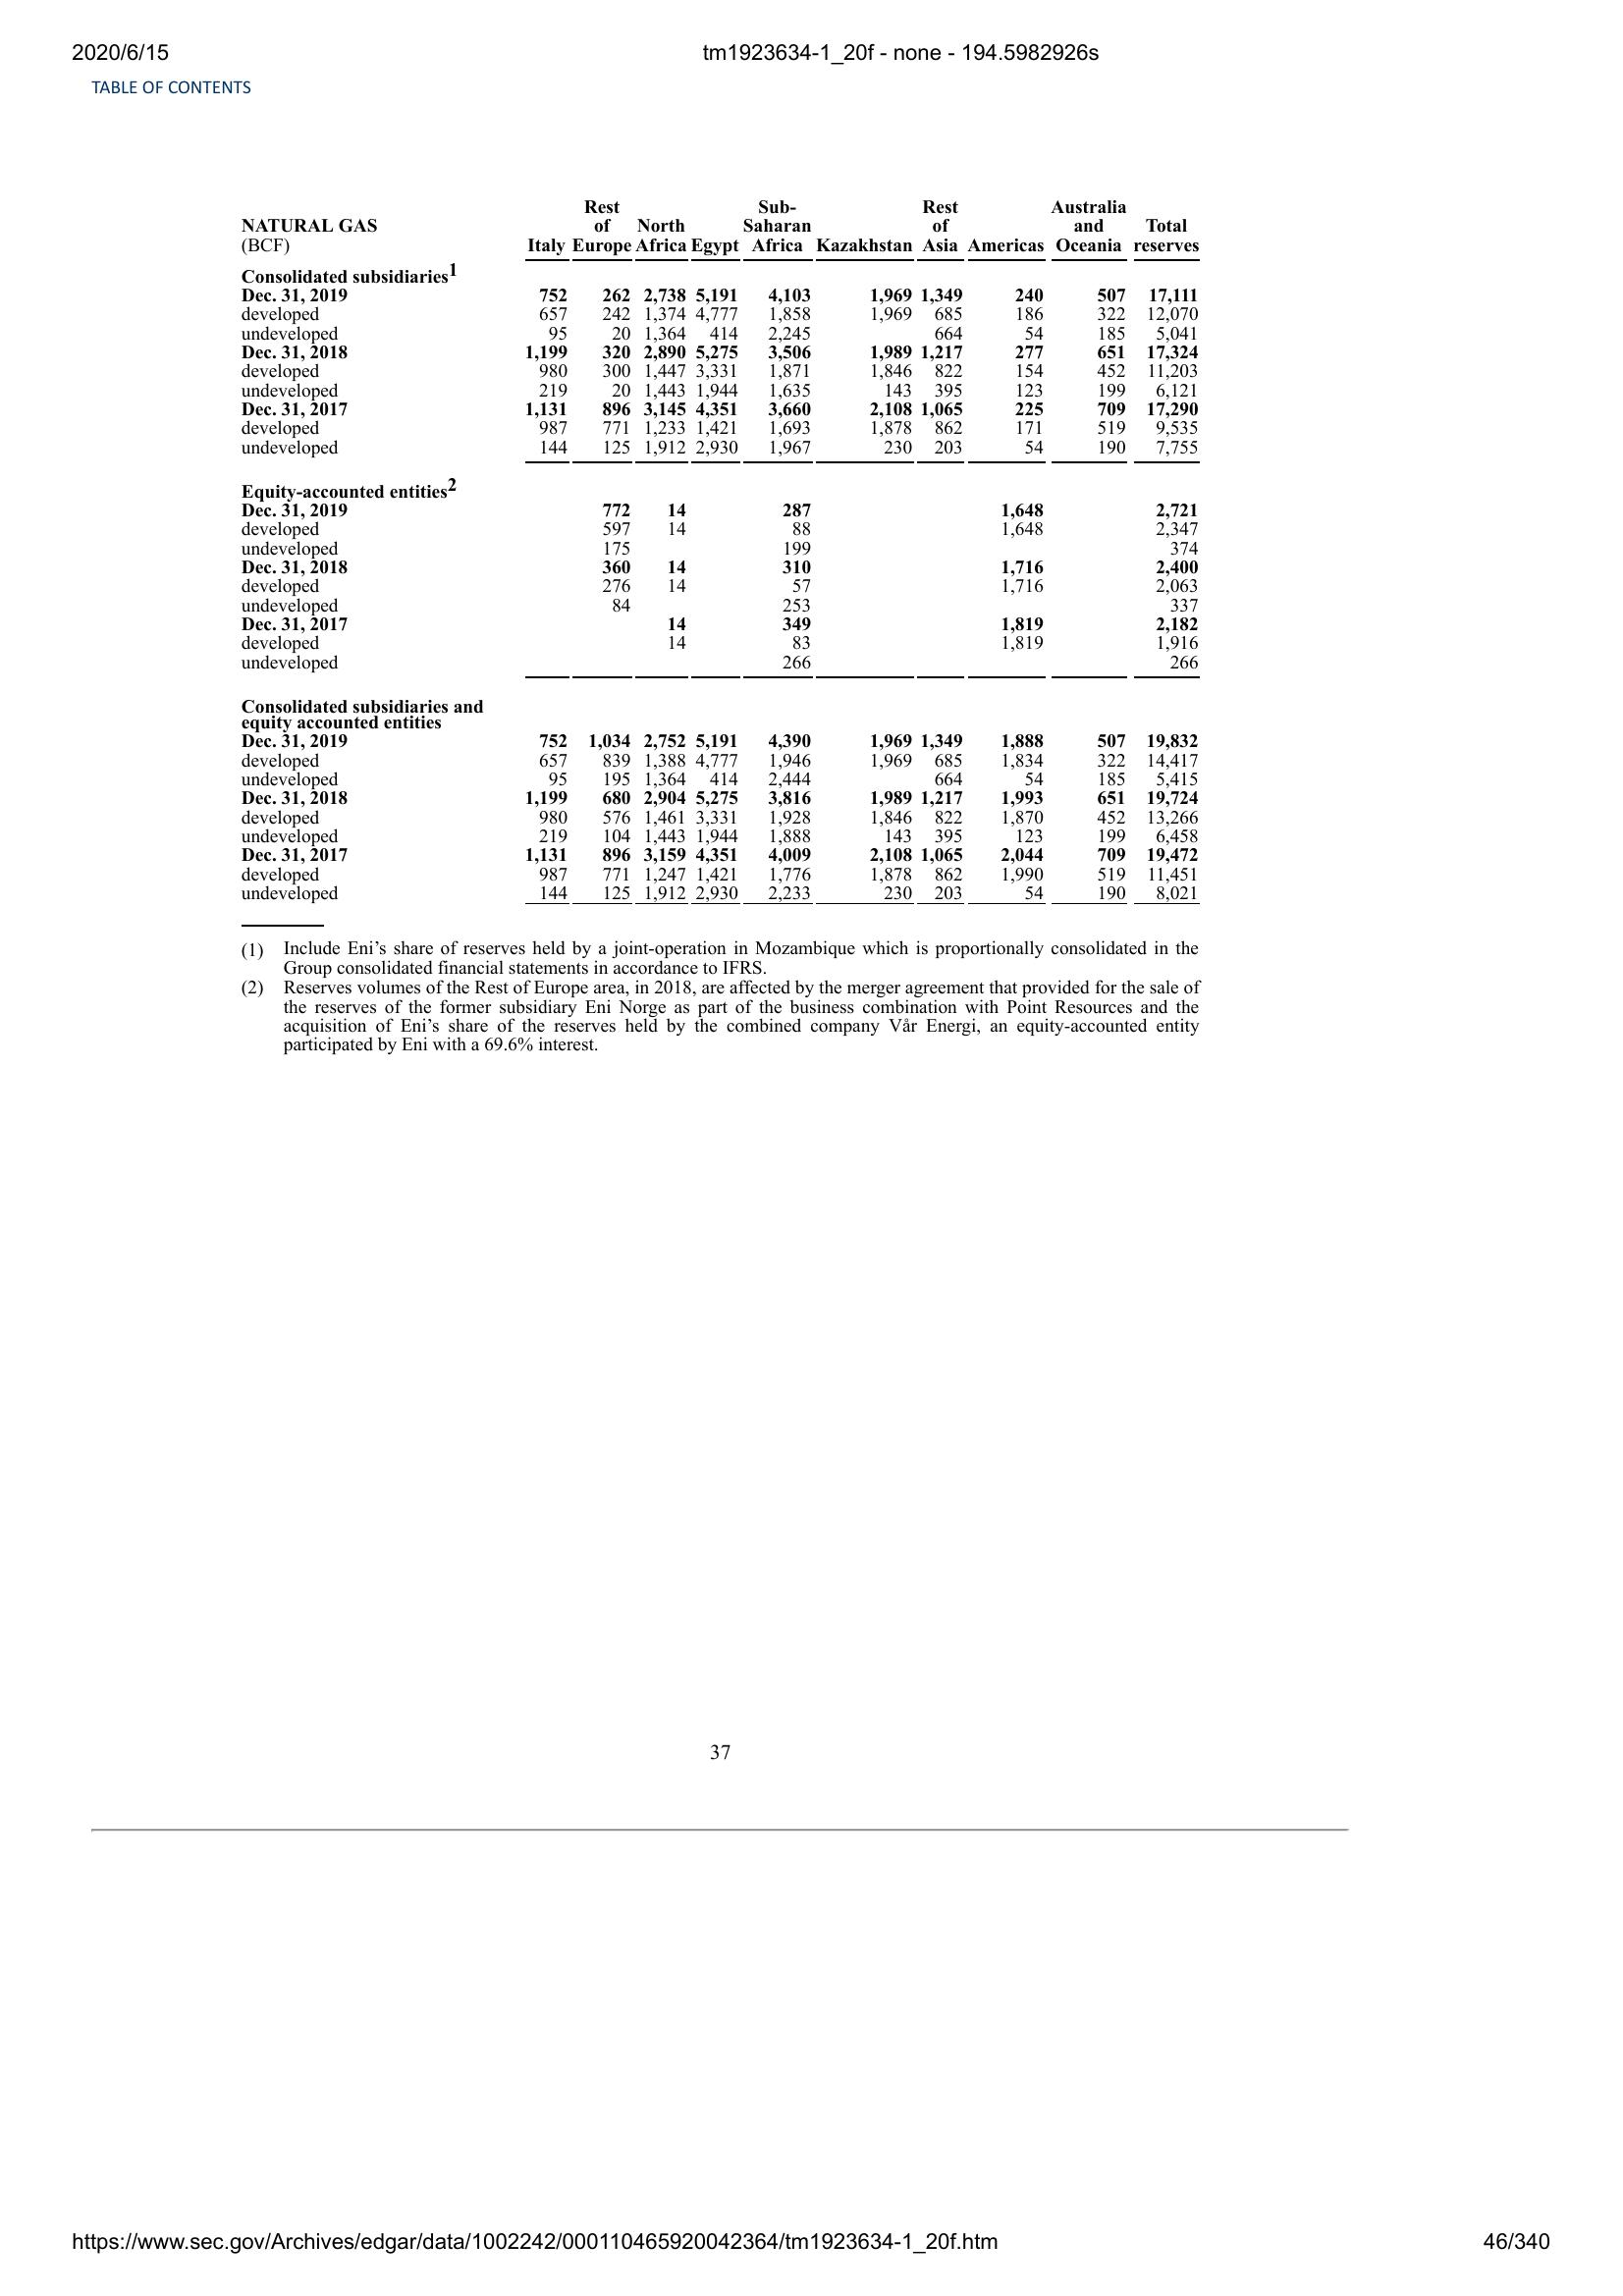table: (232, 190, 1205, 915)
